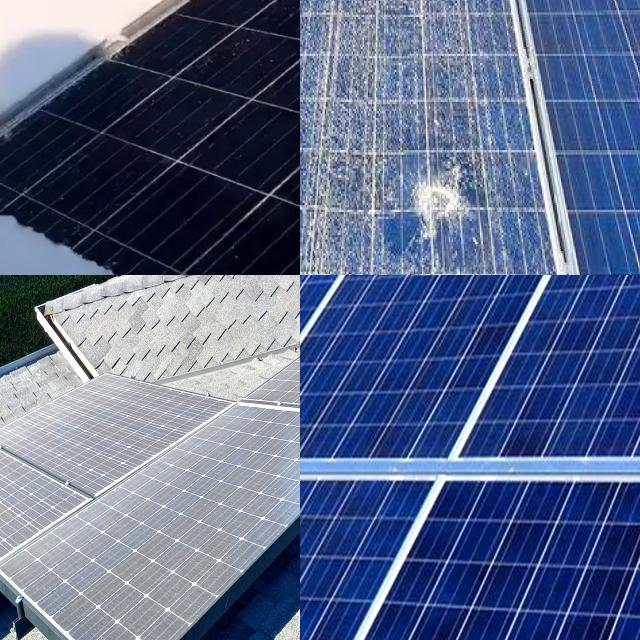crack: (300, 275, 640, 640)
dust: (54, 517, 172, 615), (146, 460, 280, 518), (46, 409, 146, 458), (253, 399, 300, 469), (0, 486, 66, 532), (162, 411, 236, 448)
hotspot: (394, 153, 487, 249)
panel: (0, 164, 300, 275), (0, 0, 199, 152), (6, 0, 255, 42), (125, 0, 300, 34), (15, 0, 110, 21)
